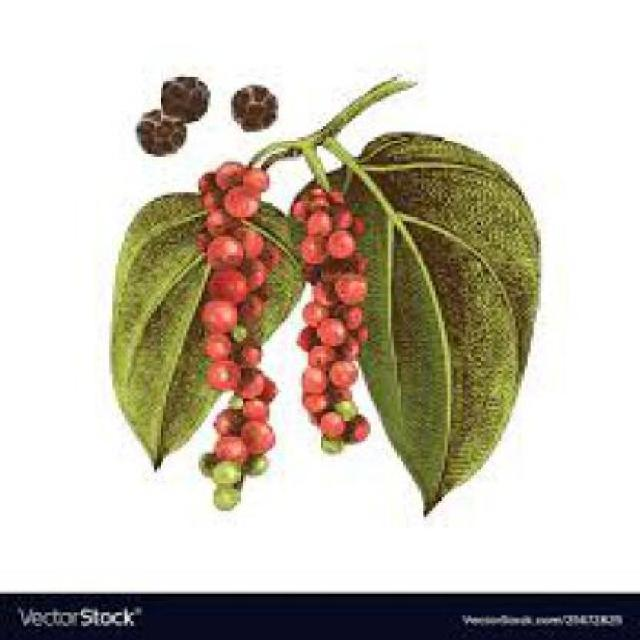RIPE: (185, 163, 276, 506), (297, 188, 374, 454)
